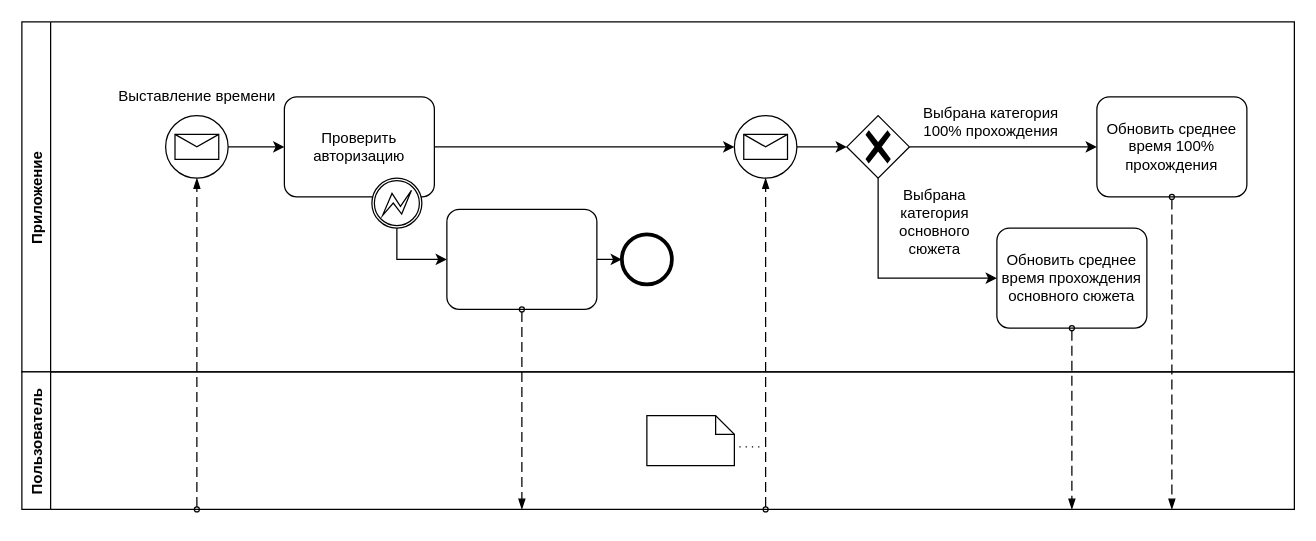
Image size: 1316x541. Some labels were removed from this diagram. The shapes that lost their labels are listed below. From the top down, each one's box as (x1, y1, x2, y2) in pixels, then its label:
(446, 208, 597, 309): Вывести алерт с ошибкой
(646, 414, 734, 466): Временная отметка
